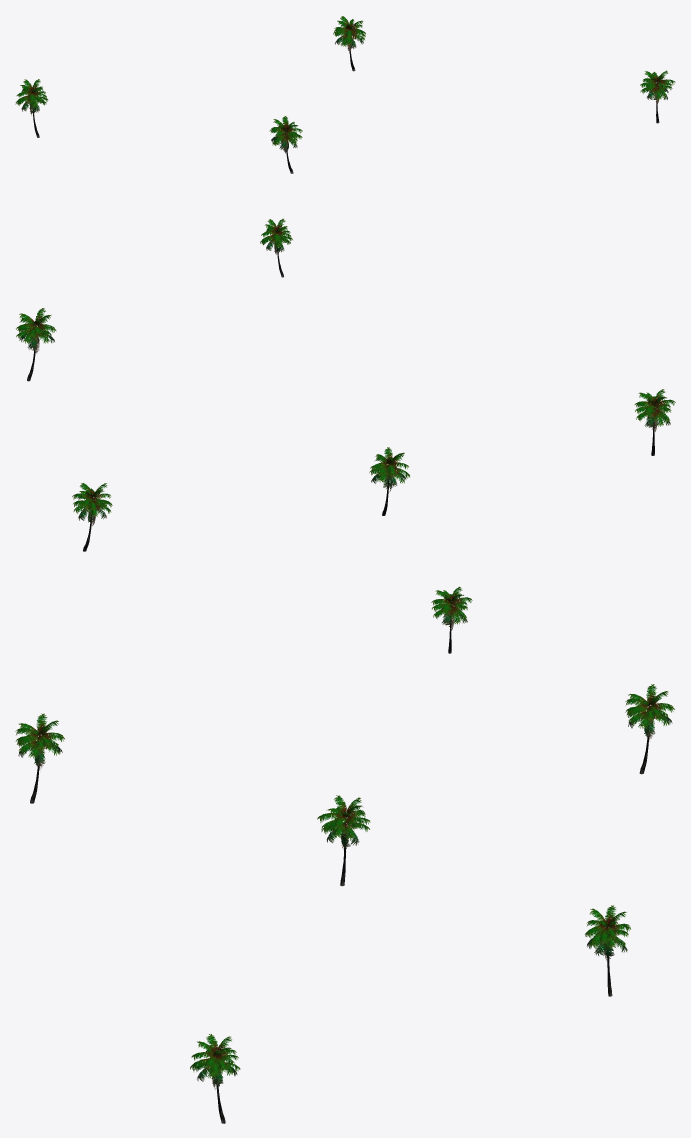
Rendered from coast-0-1.glb.
3 views of the same model, one above another, from view 1: azimuth 30°, elevation 25°; view 2: azimuth 150°, elevation 25°; view 3: azimuth 270°, elevation 25° (orthographic). The views are drawn at different scales.
Parts seen in each view (by area): view 1: coast-0-1; view 2: coast-0-1; view 3: coast-0-1.
Boxes of the visible parts, bbox=[...] form: coast-0-1: bbox=[15, 16, 675, 277]; coast-0-1: bbox=[16, 308, 675, 653]; coast-0-1: bbox=[15, 684, 674, 1123].
Bounding box in the file's own units: 101 × 10.15 × 76.12.
20 materials, 20 textured.
